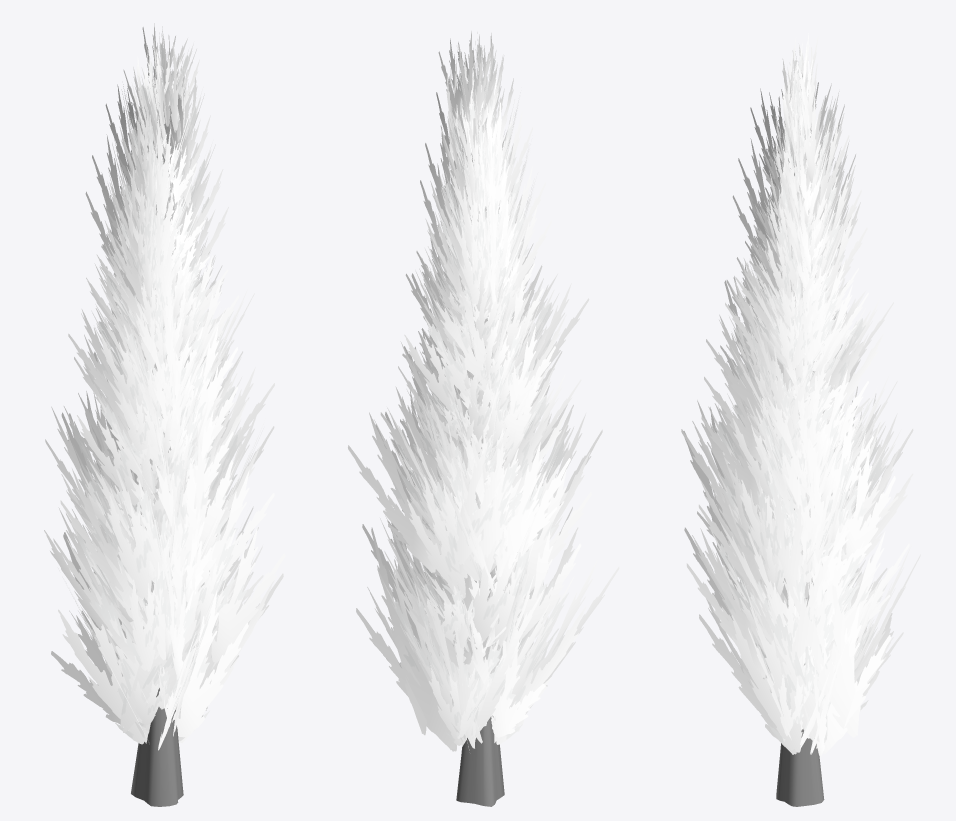
Rendered from SM_Tree_Cyrpres.fbx.
3 views of the same model, side by side, from view 1: azimuth 30°, elevation 25°; view 2: azimuth 150°, elevation 25°; view 3: azimuth 270°, elevation 25° (orthographic).
Visible parts, largest first — view 1: SM_Tree_Cyrpres; view 2: SM_Tree_Cyrpres; view 3: SM_Tree_Cyrpres.
Part boxes in pixels (x1=…): SM_Tree_Cyrpres: x1=44, y1=23, x2=285, y2=806; SM_Tree_Cyrpres: x1=348, y1=31, x2=619, y2=806; SM_Tree_Cyrpres: x1=681, y1=33, x2=920, y2=806.
Bounding box in the file's own units: 251 × 733 × 236.
